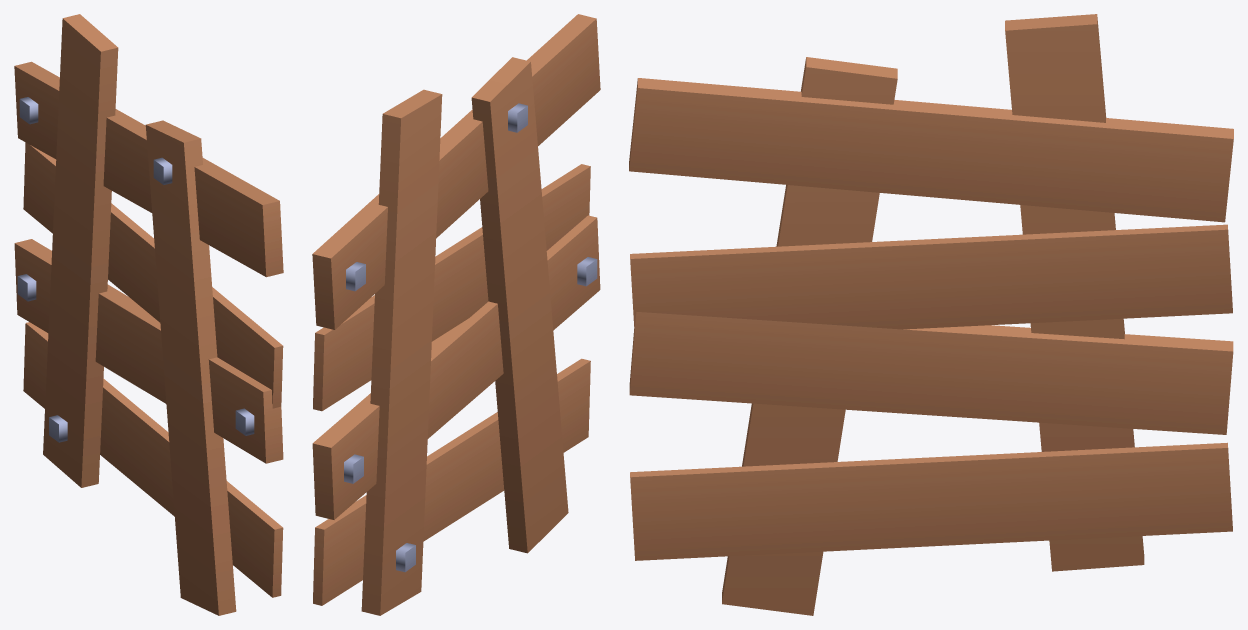
File: barricade-window-c.optimized.glb
3 renders of one model, left to right at view 1: azimuth 30°, elevation 25°; view 2: azimuth 150°, elevation 25°; view 3: azimuth 270°, elevation 25°, orthographic. The views are drawn at different scales.
Visible parts, largest first — view 1: barricade-window-c; view 2: barricade-window-c; view 3: barricade-window-c.
Part boxes in pixels (left/top/right/bottom): barricade-window-c: left=14, top=14, right=283, bottom=615; barricade-window-c: left=312, top=14, right=600, bottom=615; barricade-window-c: left=629, top=14, right=1233, bottom=615.
Bounding box in the file's own units: 0.1 × 1.36 × 1.26.
Materials: 1 (1 with a texture image).
